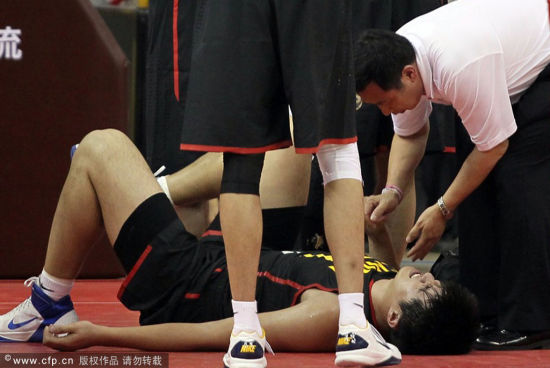fall: (8, 132, 480, 352)
